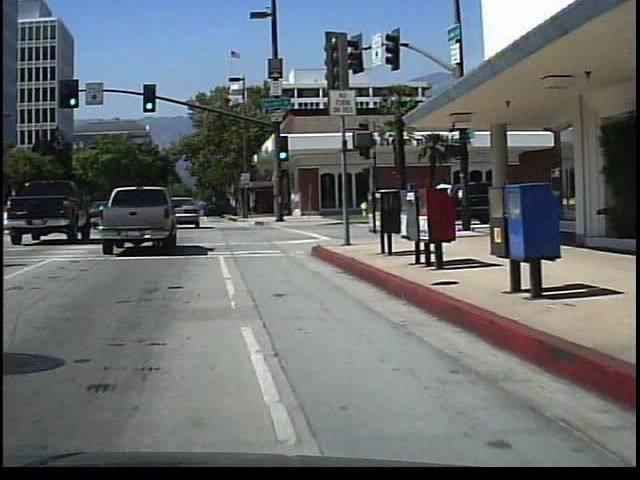person: (439, 173, 463, 238)
